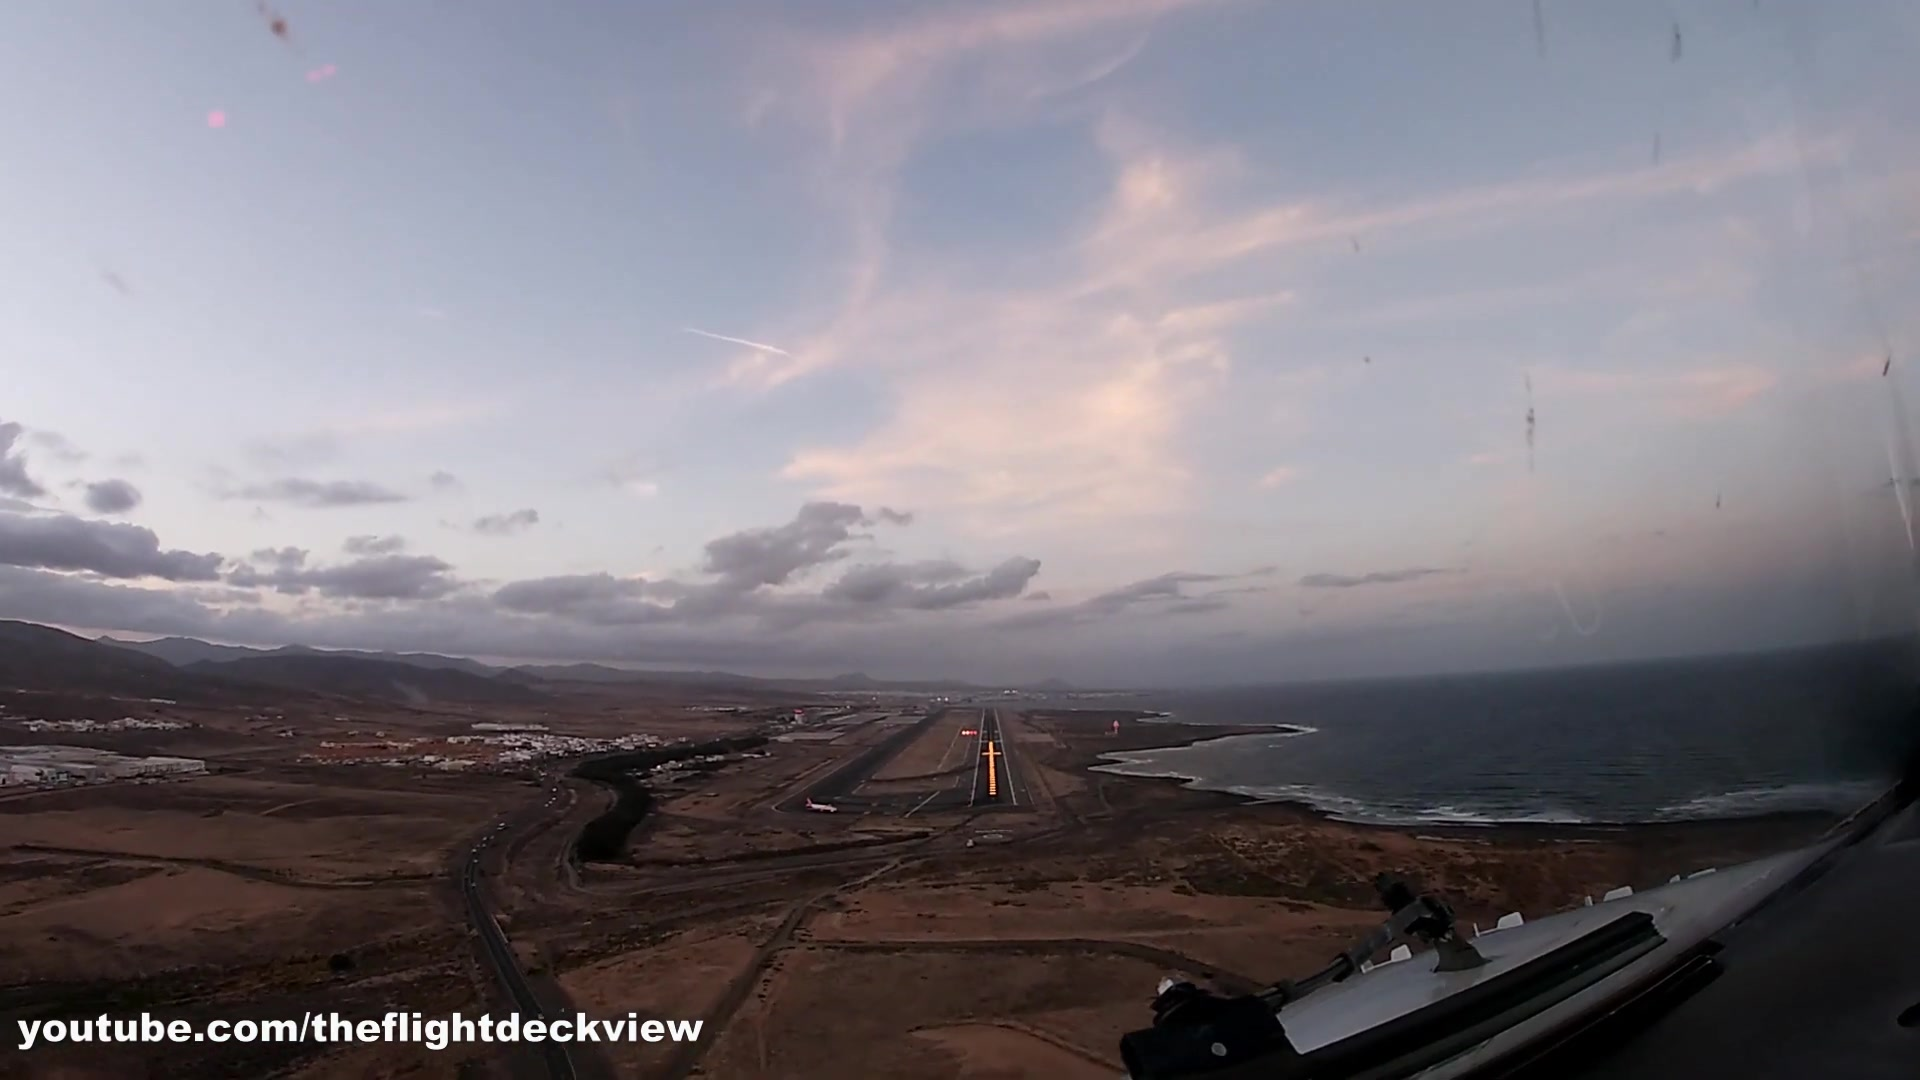runway: (975, 708, 1010, 749)
